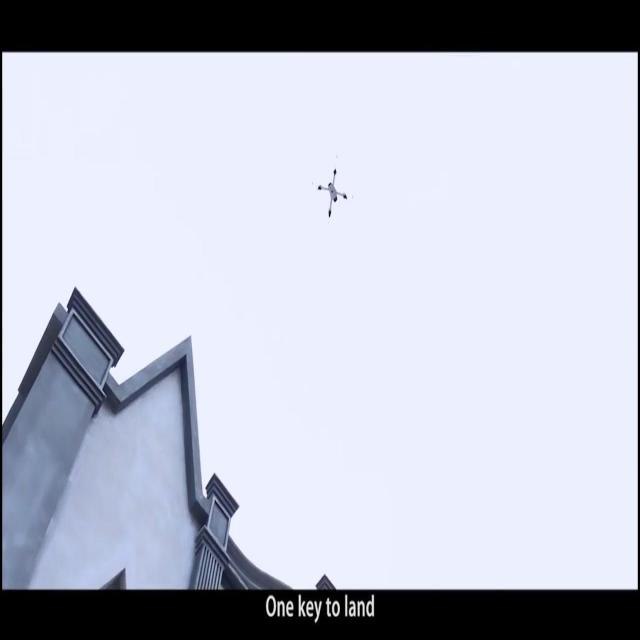UAV: (317, 168, 347, 218)
